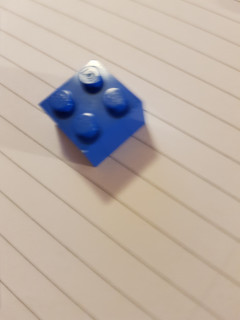2x2 blue: (34, 57, 149, 169)
